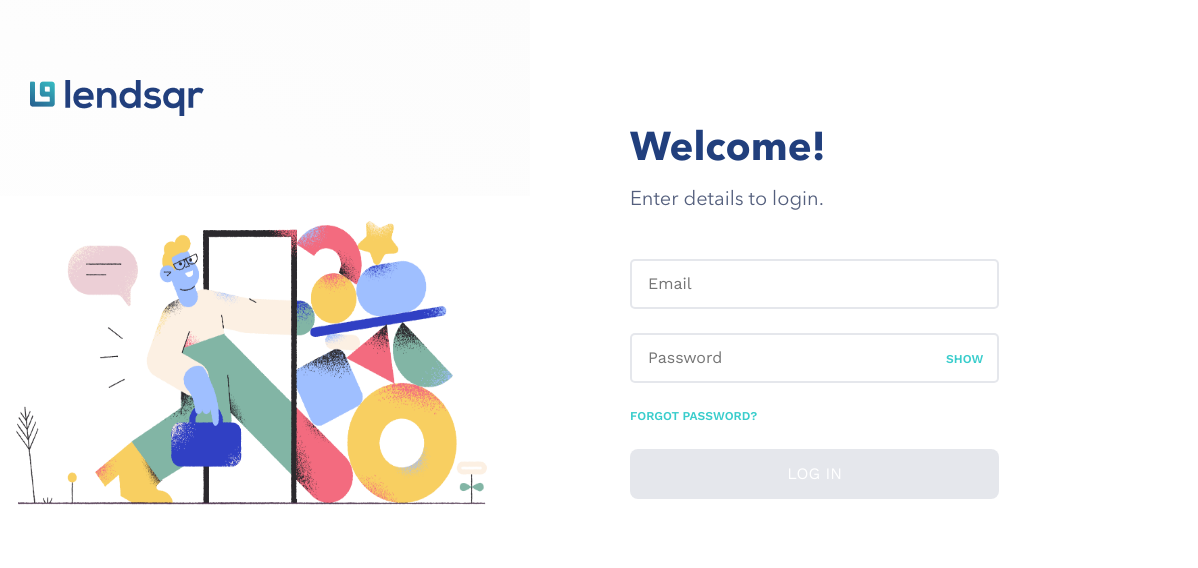
it: describe the Login page › should display error message with invalid credentials
Type "wrong@example.com" into the field with placeholder "Email" at (815, 284), box [630, 258, 999, 308]
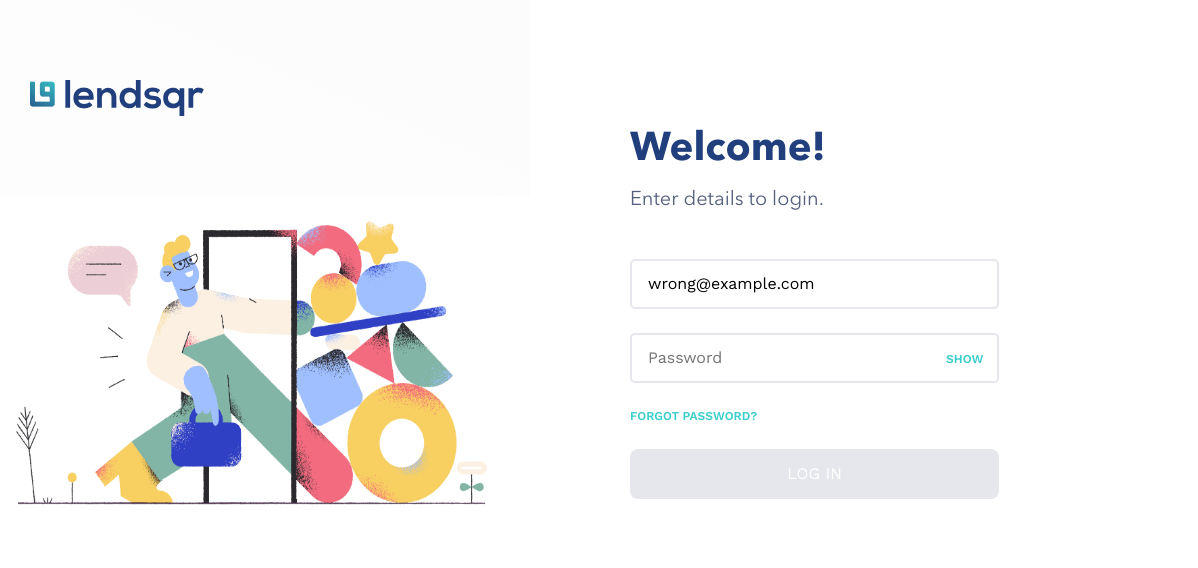
Type "wrongpassword" into the password field with placeholder "Password" at (815, 358), box [630, 332, 999, 382]
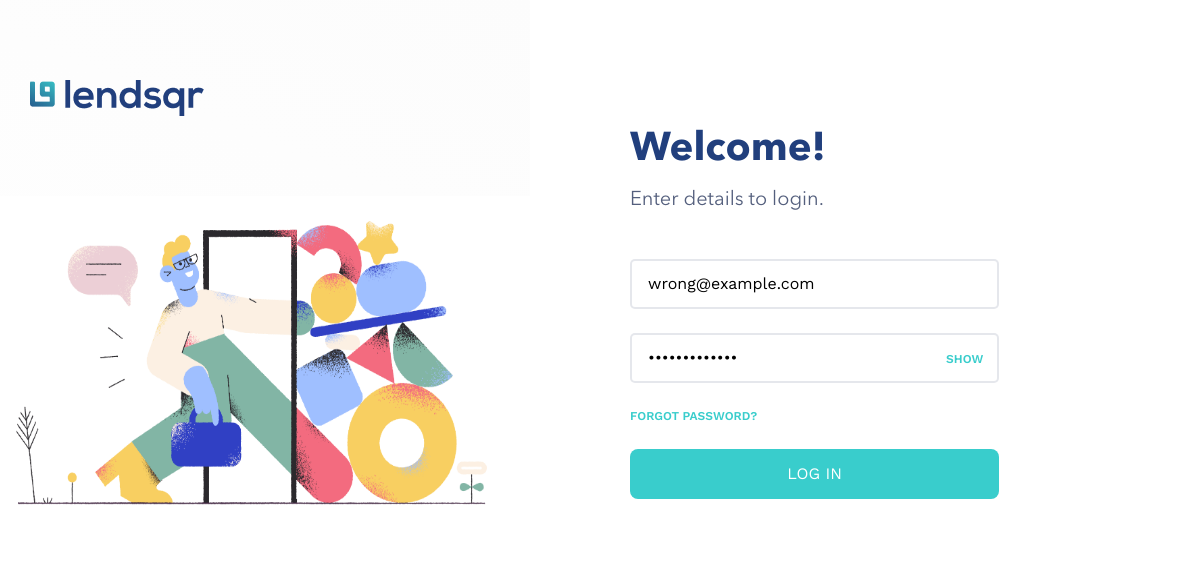
Click the button "Log in" at (815, 474), box [630, 448, 999, 498]
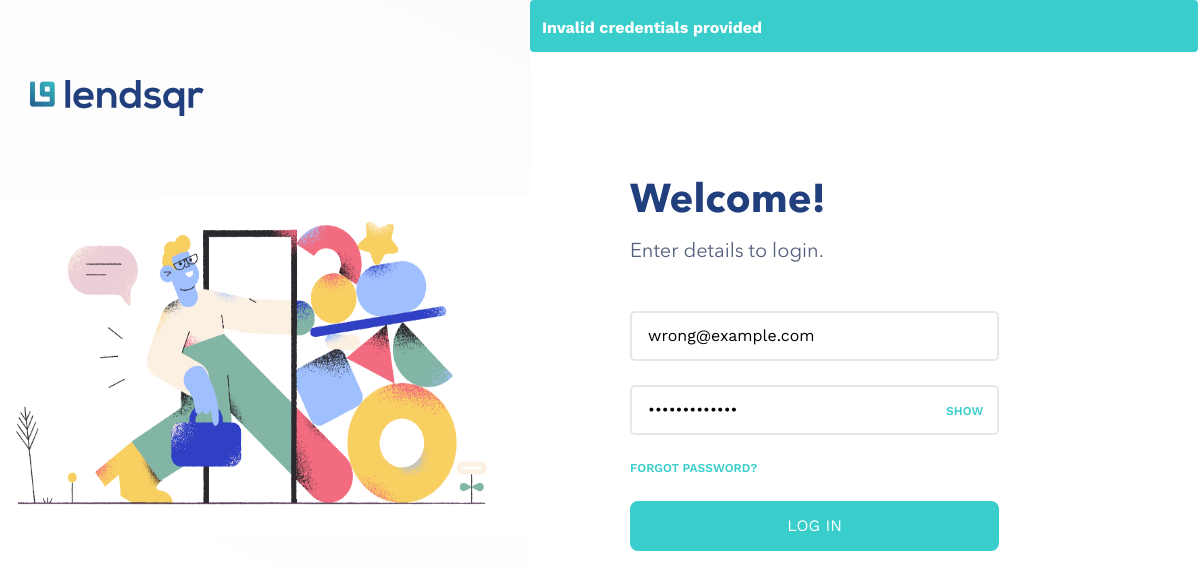
Check: the text "Invalid credentials provided" is shown, box [530, 0, 1197, 52]
